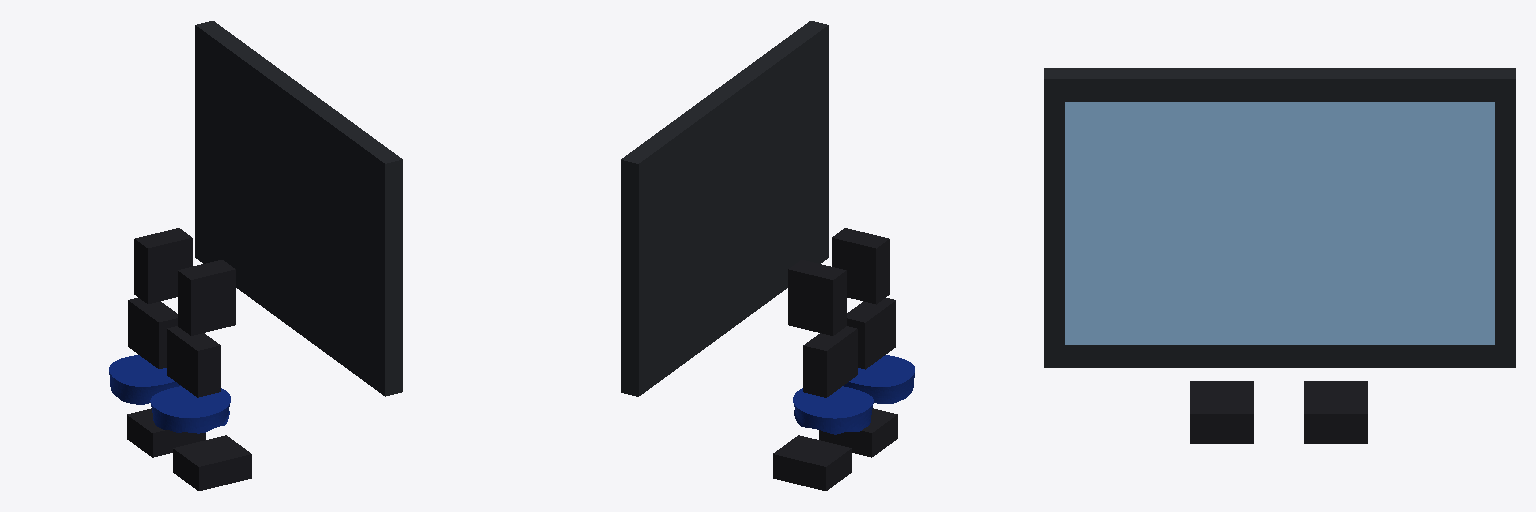
The robot description file, URDF, robot "haetburi":
<?xml version="1.0"?>
<!-- Haetburi biped (v18_sts3032) - generated by tools/build_model.py, do not edit by hand -->
<robot name="haetburi">
  <mujoco>
    <compiler meshdir="." balanceinertia="true" discardvisual="false" strippath="false" fusestatic="false"/>
  </mujoco>
  <material name="display"><color rgba="0.18 0.19 0.21 1"/></material>
  <material name="screen"><color rgba="0.62 0.80 0.95 1"/></material>
  <material name="shell"><color rgba="0.106 0.216 0.541 1"/></material>
  <material name="motor"><color rgba="0.15 0.15 0.17 1"/></material>
  <material name="foot"><color rgba="0.25 0.25 0.28 1"/></material>
  <link name="world"/>
  <joint name="floating_base" type="floating">
    <parent link="world"/><child link="pelvis"/>
    <origin xyz="0 0 0" rpy="0 0 0"/>
  </joint>
  <link name="pelvis">
    <inertial>
      <origin xyz="-0.00683764 -5.20776e-05 0.0390801" rpy="0 0 0"/>
      <mass value="0.238009"/>
      <inertia ixx="0.000154061" ixy="1.15041e-07" ixz="4.60884e-05" iyy="0.000205438" iyz="-1.04497e-07" izz="0.000150089"/>
    </inertial>
    <visual><origin xyz="0 0 0" rpy="0 0 0"/><geometry><mesh filename="meshes/pelvis.stl"/></geometry><material name="shell"/></visual>
    <visual><origin xyz="0.00700206 0.0191539 0.04925" rpy="0 0 0"/><geometry><box size="0.023 0.012 0.0275"/></geometry><material name="motor"/></visual>
    <visual><origin xyz="0.00699794 -0.0193903 0.04925" rpy="0 0 0"/><geometry><box size="0.023 0.012 0.0275"/></geometry><material name="motor"/></visual>
    <collision><origin xyz="0.00584209 -0.000114454 0.02072" rpy="0 0 0"/><geometry><box size="0.0700438 0.0930141 0.0403"/></geometry></collision>
  </link>
  <link name="torso">
    <inertial>
      <origin xyz="0.0170411 8.09622e-05 0.101235" rpy="0 0 0"/>
      <mass value="1.03346"/>
      <inertia ixx="0.010353" ixy="-3.0124e-05" ixz="0.00187998" iyy="0.0104148" iyz="-2.90446e-05" izz="0.00566623"/>
    </inertial>
    <visual><origin xyz="0 0 0" rpy="0 0 0"/><geometry><mesh filename="meshes/torso.stl"/></geometry><material name="shell"/></visual>
    <visual><origin xyz="0.0657291 0 0.0306773" rpy="0 0 0"/><geometry><box size="0.009246 0.169242 0.114409"/></geometry><material name="display"/></visual>
    <visual><origin xyz="0.0703521 0 0.0306773" rpy="0 0 0"/><geometry><box size="0.0004 0.154368 0.09648"/></geometry><material name="screen"/></visual>
    <collision><origin xyz="-0.0305177 -1.42065e-06 0.0225147" rpy="0 0 0"/><geometry><box size="0.143246 0.0971313 0.0956536"/></geometry></collision>
    <collision><origin xyz="0.0372654 0.0752369 0.0453689" rpy="0 0 0"/><geometry><sphere radius="0.0544232"/></geometry></collision>
    <collision><origin xyz="0.037523 -0.0753523 0.0453689" rpy="0 0 0"/><geometry><sphere radius="0.0543709"/></geometry></collision>
    <collision><origin xyz="-0.00467744 0.000239208 0.0918479" rpy="0 0 0"/><geometry><sphere radius="0.0933465"/></geometry></collision>
    <collision><origin xyz="-0.00815059 -0.000109976 0.134832" rpy="0 0 0"/><geometry><sphere radius="0.107694"/></geometry></collision>
    <collision><origin xyz="-0.012411 -0.000181511 0.177823" rpy="0 0 0"/><geometry><sphere radius="0.106447"/></geometry></collision>
    <collision><origin xyz="-0.00973643 0.000766764 0.220812" rpy="0 0 0"/><geometry><sphere radius="0.0925595"/></geometry></collision>
    <collision><origin xyz="-0.00576134 0.00606915 0.263827" rpy="0 0 0"/><geometry><sphere radius="0.0659735"/></geometry></collision>
    <collision><origin xyz="-0.0105584 -0.00200599 0.306805" rpy="0 0 0"/><geometry><sphere radius="0.0382864"/></geometry></collision>
    <collision><origin xyz="0.0657291 0 0.0306773" rpy="0 0 0"/><geometry><box size="0.009246 0.169242 0.114409"/></geometry></collision>
  </link>
  <link name="leg_l">
    <inertial>
      <origin xyz="-0.000398108 0.00191361 -0.0234105" rpy="0 0 0"/>
      <mass value="0.0396886"/>
      <inertia ixx="1.06247e-05" ixy="1.04331e-08" ixz="1.08221e-07" iyy="8.47144e-06" iyz="2.69118e-08" izz="5.01819e-06"/>
    </inertial>
    <visual><origin xyz="0 0 0" rpy="0 0 0"/><geometry><mesh filename="meshes/leg_l.stl"/></geometry><material name="shell"/></visual>
    <collision><origin xyz="-0.00150044 0.00199389 -0.0182842" rpy="0 0 0"/><geometry><box size="0.0365374 0.0334745 0.00956833"/></geometry></collision>
  </link>
  <link name="hip_l">
    <inertial>
      <origin xyz="0 -0.00169586 0.0183157" rpy="0 0 0"/>
      <mass value="0.0359266"/>
      <inertia ixx="2.7237e-06" ixy="0" ixz="0" iyy="1.44058e-06" iyz="1.71077e-08" izz="1.88312e-06"/>
    </inertial>
    <visual><origin xyz="0 -0.002 0.019" rpy="0 0 0"/><geometry><box size="0.012 0.0275 0.023"/></geometry><material name="motor"/></visual>
  </link>
  <link name="foot_l">
    <inertial>
      <origin xyz="0.000276397 0.0042634 -0.00156683" rpy="0 0 0"/>
      <mass value="0.0597762"/>
      <inertia ixx="6.83422e-06" ixy="-2.70163e-07" ixz="-8.07449e-08" iyy="9.57221e-06" iyz="-5.75349e-07" izz="1.12109e-05"/>
    </inertial>
    <visual><origin xyz="0 0 0" rpy="0 0 0"/><geometry><mesh filename="meshes/foot_l.stl"/></geometry><material name="shell"/></visual>
    <visual><origin xyz="0 0.0055 3.36778e-19" rpy="0 0 0"/><geometry><box size="0.0275 0.023 0.012"/></geometry><material name="motor"/></visual>
    <collision><origin xyz="0 0 0" rpy="0 0 0"/><geometry><mesh filename="meshes/foot_l.stl"/></geometry></collision>
  </link>
  <link name="leg_r">
    <inertial>
      <origin xyz="-0.000373495 -0.00190634 -0.0233707" rpy="0 0 0"/>
      <mass value="0.0397452"/>
      <inertia ixx="1.0625e-05" ixy="-1.87843e-08" ixz="1.06576e-07" iyy="8.44176e-06" iyz="-2.86606e-08" izz="5.02491e-06"/>
    </inertial>
    <visual><origin xyz="0 0 0" rpy="0 0 0"/><geometry><mesh filename="meshes/leg_r.stl"/></geometry><material name="shell"/></visual>
    <collision><origin xyz="-0.00149894 -0.00199032 -0.0182228" rpy="0 0 0"/><geometry><box size="0.0365079 0.0335388 0.00944563"/></geometry></collision>
  </link>
  <link name="hip_r">
    <inertial>
      <origin xyz="0 0.00169586 0.0183157" rpy="0 0 0"/>
      <mass value="0.0359266"/>
      <inertia ixx="2.7237e-06" ixy="0" ixz="0" iyy="1.44058e-06" iyz="-1.71077e-08" izz="1.88312e-06"/>
    </inertial>
    <visual><origin xyz="0 0.002 0.019" rpy="0 0 0"/><geometry><box size="0.012 0.0275 0.023"/></geometry><material name="motor"/></visual>
  </link>
  <link name="foot_r">
    <inertial>
      <origin xyz="0.000219322 -0.00411045 -0.00158817" rpy="0 0 0"/>
      <mass value="0.0596975"/>
      <inertia ixx="6.76921e-06" ixy="2.74787e-07" ixz="-5.80406e-08" iyy="9.52899e-06" iyz="5.4791e-07" izz="1.11491e-05"/>
    </inertial>
    <visual><origin xyz="0 0 0" rpy="0 0 0"/><geometry><mesh filename="meshes/foot_r.stl"/></geometry><material name="shell"/></visual>
    <visual><origin xyz="0 -0.0055 3.36778e-19" rpy="0 0 0"/><geometry><box size="0.0275 0.023 0.012"/></geometry><material name="motor"/></visual>
    <collision><origin xyz="0 0 0" rpy="0 0 0"/><geometry><mesh filename="meshes/foot_r.stl"/></geometry></collision>
  </link>
  <joint name="waist_fixed" type="fixed">
    <parent link="pelvis"/><child link="torso"/>
    <origin xyz="0 0 0.04087" rpy="0 0 0"/>
  </joint>
  <joint name="hip_yaw_l" type="revolute">
    <parent link="pelvis"/><child link="hip_l"/>
    <origin xyz="0.00150206 0.0191539 0" rpy="0 0 0"/>
    <axis xyz="0 0 1"/>
    <limit lower="-0.314159" upper="0.314159" effort="0.44" velocity="11.6"/>
    <dynamics damping="0.03142857142857144" friction="0.012571428571428574"/>
  </joint>
  <joint name="hip_pitch_l" type="revolute">
    <parent link="hip_l"/><child link="leg_l"/>
    <origin xyz="0 -0.002 0.0135" rpy="0 0 0"/>
    <axis xyz="0 1 0"/>
    <limit lower="-0.523599" upper="0.453786" effort="0.44" velocity="11.6"/>
    <dynamics damping="0.03142857142857144" friction="0.012571428571428574"/>
  </joint>
  <joint name="hip_yaw_r" type="revolute">
    <parent link="pelvis"/><child link="hip_r"/>
    <origin xyz="0.00149794 -0.0193903 0" rpy="0 0 0"/>
    <axis xyz="0 0 1"/>
    <limit lower="-0.314159" upper="0.314159" effort="0.44" velocity="11.6"/>
    <dynamics damping="0.03142857142857144" friction="0.012571428571428574"/>
  </joint>
  <joint name="hip_pitch_r" type="revolute">
    <parent link="hip_r"/><child link="leg_r"/>
    <origin xyz="0 0.002 0.0135" rpy="0 0 0"/>
    <axis xyz="0 1 0"/>
    <limit lower="-0.523599" upper="0.453786" effort="0.44" velocity="11.6"/>
    <dynamics damping="0.03142857142857144" friction="0.012571428571428574"/>
  </joint>
  <joint name="ankle_roll_l" type="revolute">
    <parent link="leg_l"/><child link="foot_l"/>
    <origin xyz="0.00756022 -0.00250034 -0.04553" rpy="0 0 0"/>
    <axis xyz="1 0 0"/>
    <limit lower="-0.261799" upper="0.261799" effort="0.44" velocity="11.6"/>
    <dynamics damping="0.03142857142857144" friction="0.012571428571428574"/>
  </joint>
  <joint name="ankle_roll_r" type="revolute">
    <parent link="leg_r"/><child link="foot_r"/>
    <origin xyz="0.00765398 0.00202445 -0.04553" rpy="0 0 0"/>
    <axis xyz="1 0 0"/>
    <limit lower="-0.261799" upper="0.261799" effort="0.44" velocity="11.6"/>
    <dynamics damping="0.03142857142857144" friction="0.012571428571428574"/>
  </joint>
</robot>

--- Facts derived from the render (not from the file) ---
The picture shows the robot from 3 angles, left to right: view 1: azimuth 30°, elevation 25°; view 2: azimuth 150°, elevation 25°; view 3: azimuth 270°, elevation 25°; orthographic projection.
Robot: haetburi — 9 links, 8 joints (6 revolute, 1 fixed, 1 floating); root link world; default pose: every joint at zero.
Links seen in each view (by area): view 1: torso, pelvis, foot_r, hip_r, leg_r, hip_l, leg_l, foot_l; view 2: torso, pelvis, foot_l, hip_l, leg_l, hip_r, leg_r, foot_r; view 3: torso, foot_l, foot_r.
Boxes of the visible links, <box> form: torso: <box>195,21,402,396</box>; pelvis: <box>134,228,235,335</box>; foot_r: <box>173,435,251,490</box>; hip_r: <box>167,326,220,397</box>; leg_r: <box>150,386,230,433</box>; hip_l: <box>128,298,177,368</box>; leg_l: <box>109,355,180,404</box>; foot_l: <box>127,408,205,457</box>; torso: <box>621,21,828,396</box>; pelvis: <box>788,228,889,335</box>; foot_l: <box>773,435,851,490</box>; hip_l: <box>803,326,857,397</box>; leg_l: <box>793,386,873,434</box>; hip_r: <box>847,298,895,369</box>; leg_r: <box>844,355,914,403</box>; foot_r: <box>819,408,897,457</box>; torso: <box>1044,68,1515,367</box>; foot_l: <box>1304,381,1367,443</box>; foot_r: <box>1190,381,1253,443</box>.
Bounding box of the posed robot: 0.0888 × 0.1692 × 0.1668 m (x, y, z).
Meshes: 6 distinct files referenced, 2 mesh visuals loaded (2 binary STL); not drawn: 4 (reference not matched to a file when rendering).
